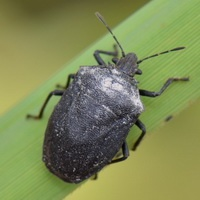insect: (27, 12, 188, 182)
